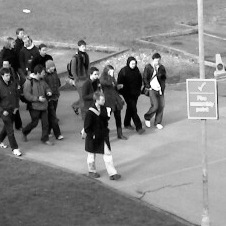person: (82, 91, 122, 180), (24, 64, 52, 145), (117, 56, 144, 133), (100, 65, 127, 140), (1, 66, 23, 156), (68, 38, 92, 116), (143, 52, 166, 130), (45, 59, 64, 139), (81, 66, 100, 111), (20, 34, 39, 67), (31, 42, 53, 66), (1, 35, 19, 61), (12, 28, 29, 45), (1, 60, 16, 67)
